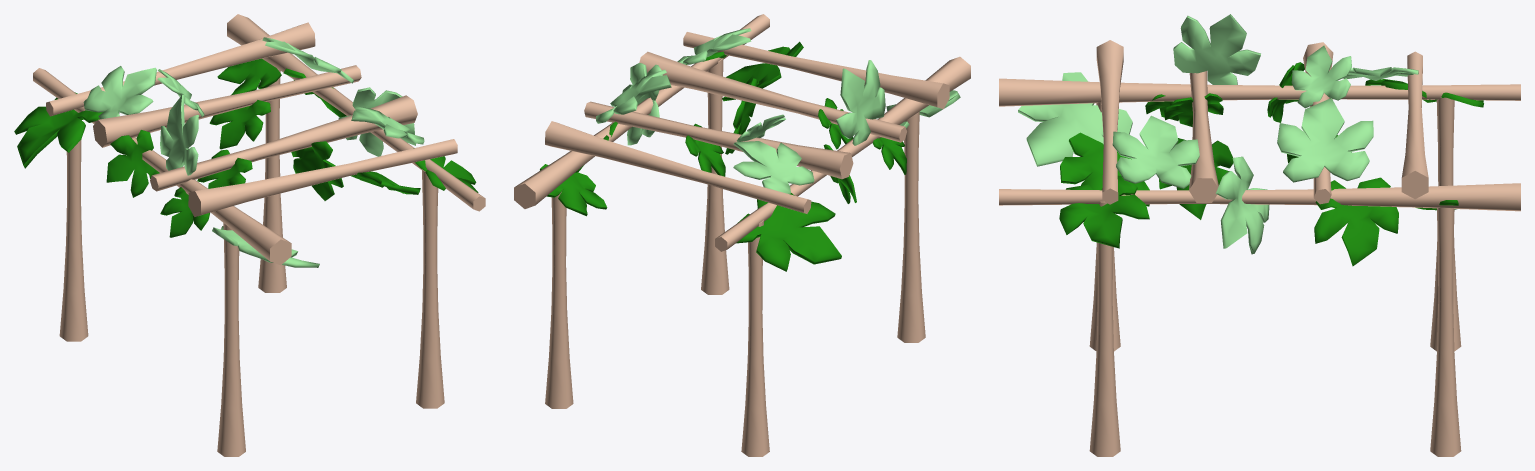
The model's file is GrapeVine.fbx.
3 renders of one model, left to right at view 1: azimuth 30°, elevation 25°; view 2: azimuth 150°, elevation 25°; view 3: azimuth 270°, elevation 25°, orthographic. The views are drawn at different scales.
Parts seen in each view (by area): view 1: GrapeVine; view 2: GrapeVine; view 3: GrapeVine.
Part boxes in pixels (bbox=[...]): GrapeVine: bbox=[14, 14, 485, 456]; GrapeVine: bbox=[514, 14, 970, 456]; GrapeVine: bbox=[999, 14, 1520, 456].
Bounding box in the file's own units: 1270 × 1202 × 1686.
